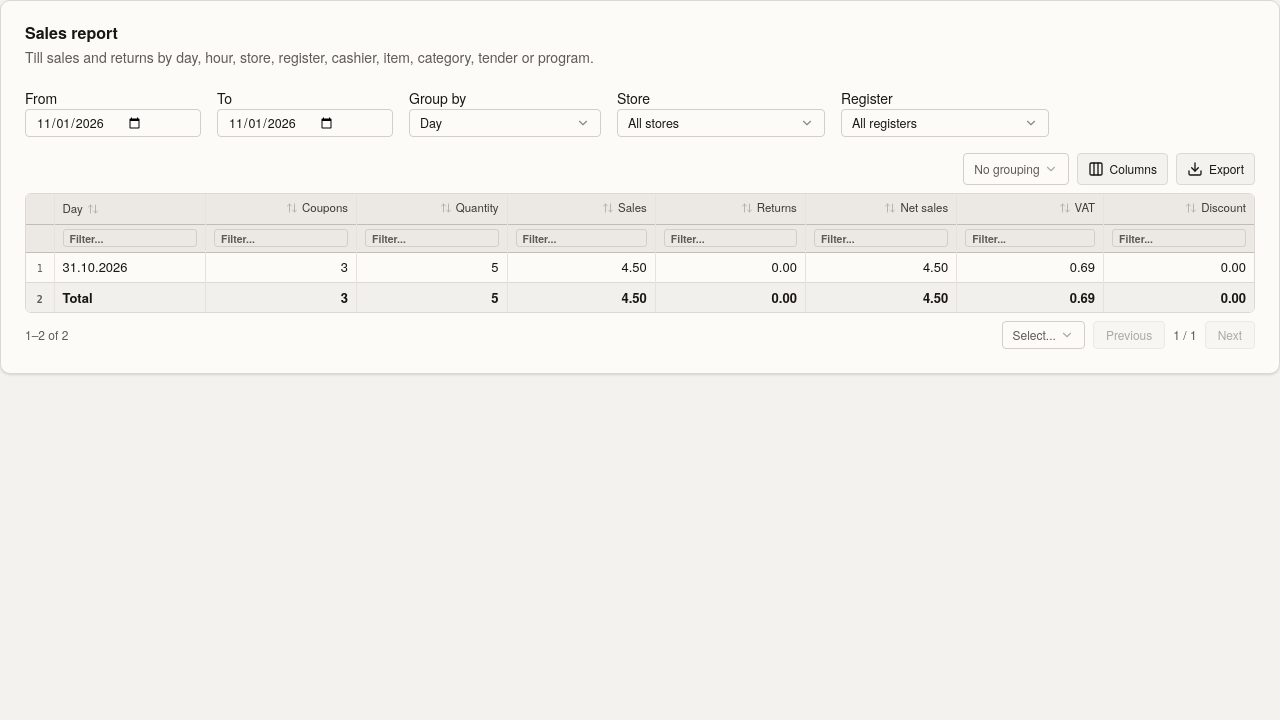
Sales report (P2) › asks the server for the chosen grouping and shows cost and margin only when it gives them
This screenshot has width=1280, height=720.
Expected: the text "31.10.2026" is shown, [54,252,206,282]
Expected: the text "Margin" is not shown
Click the dropdown named "Group by" at (505, 123), box [409,109,601,137]
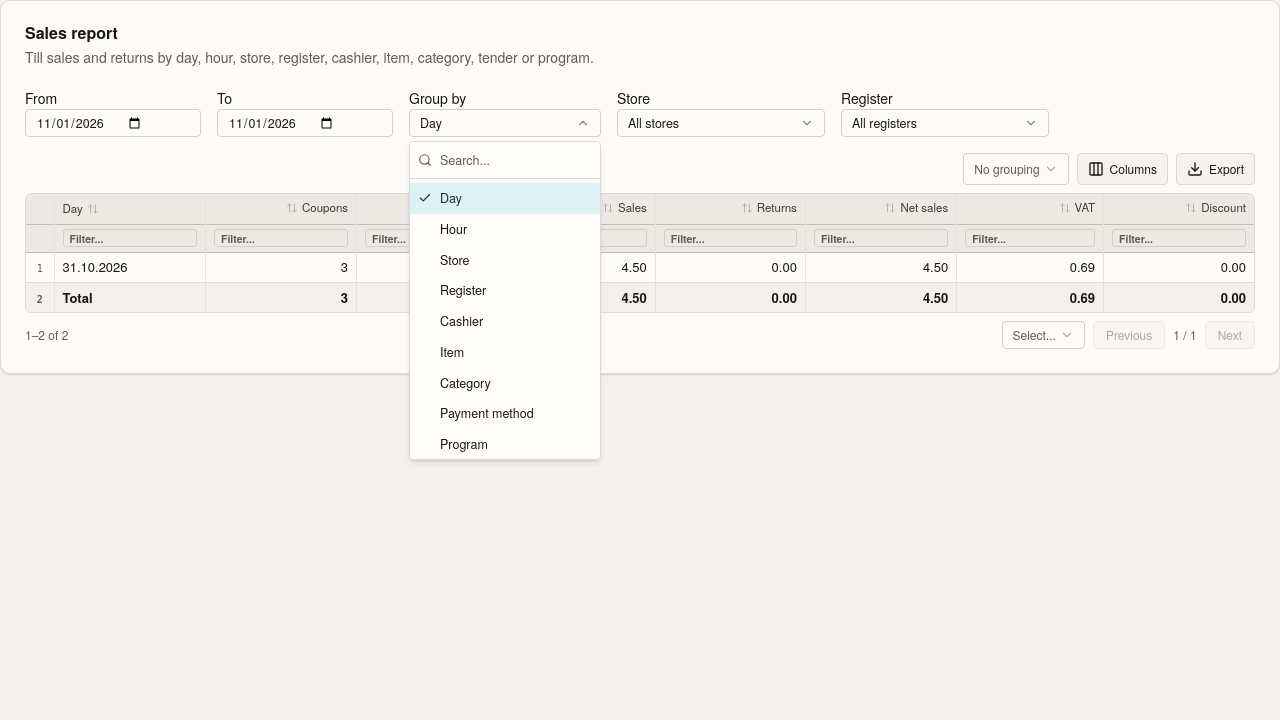
Press the mouse on the option "Item" at (505, 352), box [410,337,600,368]
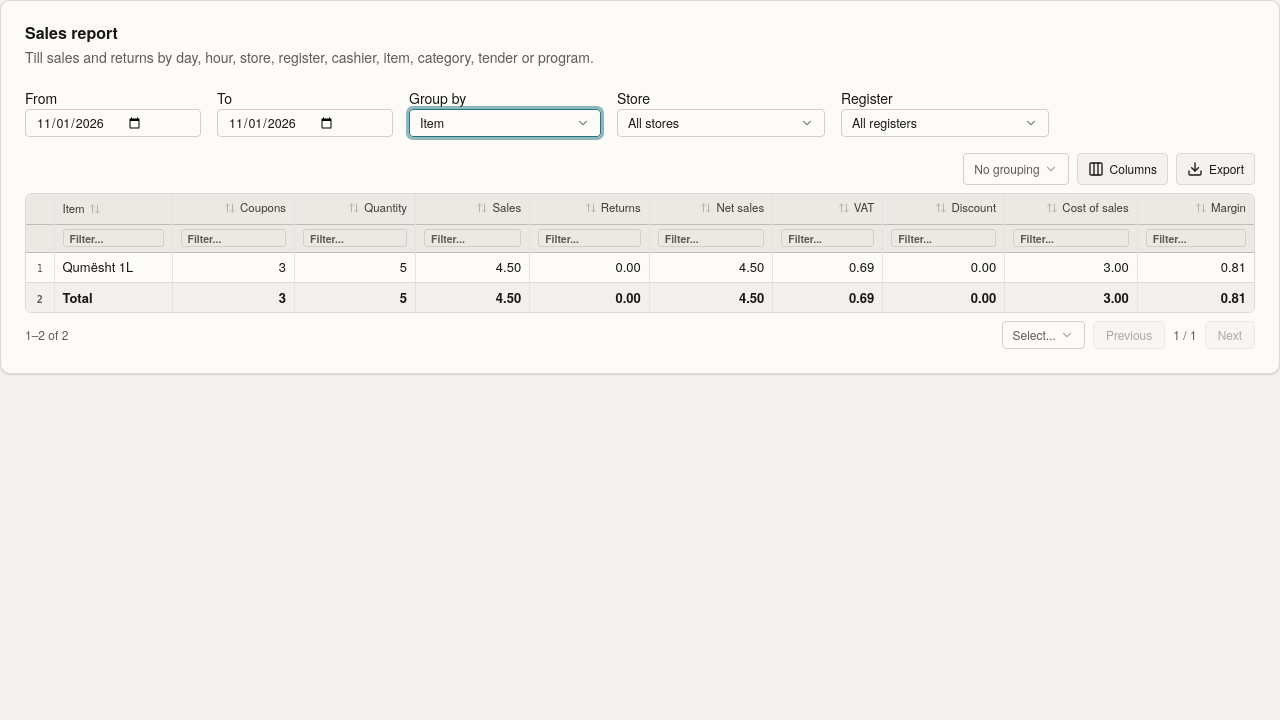
Expected: the text "Total" is shown, [54,282,172,312]
Now the button "Margin" is shown, box [1195,199,1246,217]
